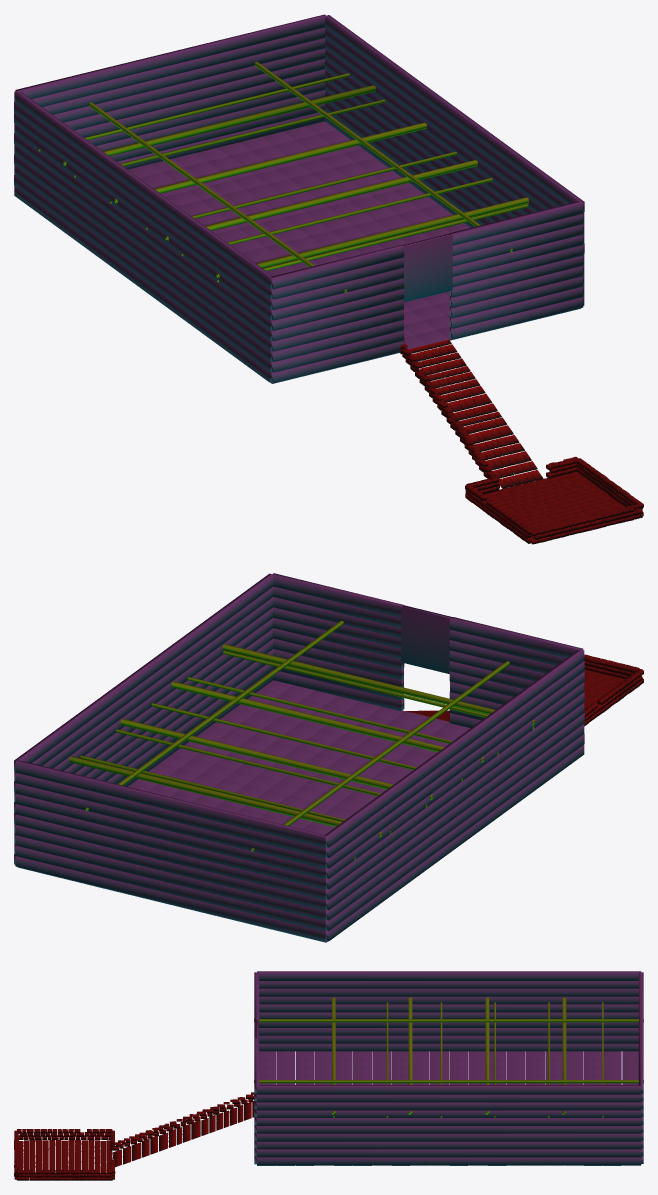
Rendered from cloudloom_temple.glb.
3 views of the same model, one above another, from view 1: azimuth 30°, elevation 25°; view 2: azimuth 150°, elevation 25°; view 3: azimuth 270°, elevation 25° (orthographic). The views are drawn at different scales.
Visible parts, largest first — view 1: cloudloom_temple; view 2: cloudloom_temple; view 3: cloudloom_temple.
Part boxes in pixels (left/top/right/bottom): cloudloom_temple: left=14, top=14, right=643, bottom=544; cloudloom_temple: left=14, top=573, right=643, bottom=942; cloudloom_temple: left=14, top=971, right=643, bottom=1180.
Size of what is drawn, in the model's own units: 28.58 by 15.09 by 65.56.
